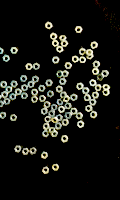nut: (91, 41, 99, 50), (45, 22, 53, 30), (75, 26, 83, 34), (61, 40, 69, 48), (86, 49, 94, 57), (79, 56, 87, 64), (64, 62, 72, 70), (59, 78, 67, 86), (20, 75, 28, 83), (27, 81, 35, 89), (0, 81, 8, 89), (5, 86, 13, 94), (9, 93, 17, 101), (3, 98, 11, 106), (76, 83, 84, 91), (58, 106, 66, 114), (85, 105, 93, 113), (90, 111, 98, 119), (77, 121, 85, 129), (62, 119, 70, 127), (42, 123, 50, 131), (42, 167, 50, 175), (96, 74, 105, 81), (101, 70, 110, 77), (59, 92, 68, 99), (10, 47, 18, 54), (3, 55, 10, 63), (59, 35, 67, 42), (56, 46, 64, 53), (26, 63, 33, 71), (33, 63, 40, 71), (52, 57, 60, 64), (79, 48, 86, 56), (93, 61, 101, 68), (92, 68, 100, 75), (56, 71, 64, 78), (62, 70, 69, 78), (32, 76, 39, 84), (21, 84, 28, 92), (10, 81, 18, 88), (45, 80, 53, 87), (90, 79, 97, 87), (31, 89, 39, 96), (31, 96, 38, 104), (1, 91, 8, 99), (10, 115, 18, 122), (38, 85, 46, 92), (39, 95, 46, 103), (95, 84, 102, 92), (103, 85, 111, 92), (82, 88, 90, 95), (92, 92, 100, 99), (84, 95, 92, 102), (89, 99, 97, 106), (63, 96, 71, 103), (71, 94, 78, 102), (56, 99, 64, 106), (51, 104, 58, 112), (41, 108, 48, 116), (48, 110, 55, 118), (70, 108, 78, 115), (76, 113, 84, 120), (65, 112, 72, 120), (56, 115, 64, 122), (45, 116, 52, 124), (51, 117, 59, 124), (51, 131, 59, 138), (42, 130, 49, 138), (61, 136, 69, 143), (14, 146, 22, 153), (22, 148, 29, 156), (29, 148, 37, 155), (41, 152, 48, 160), (52, 164, 60, 171), (50, 33, 57, 40), (52, 40, 59, 47), (87, 53, 94, 60), (72, 56, 79, 63), (21, 93, 28, 100), (15, 89, 22, 96), (56, 86, 63, 93), (47, 91, 54, 98), (103, 90, 110, 97), (44, 102, 51, 109), (65, 103, 72, 110), (55, 123, 62, 130), (49, 127, 56, 134), (0, 112, 6, 120), (0, 48, 4, 55), (0, 101, 4, 108), (0, 94, 2, 101)
